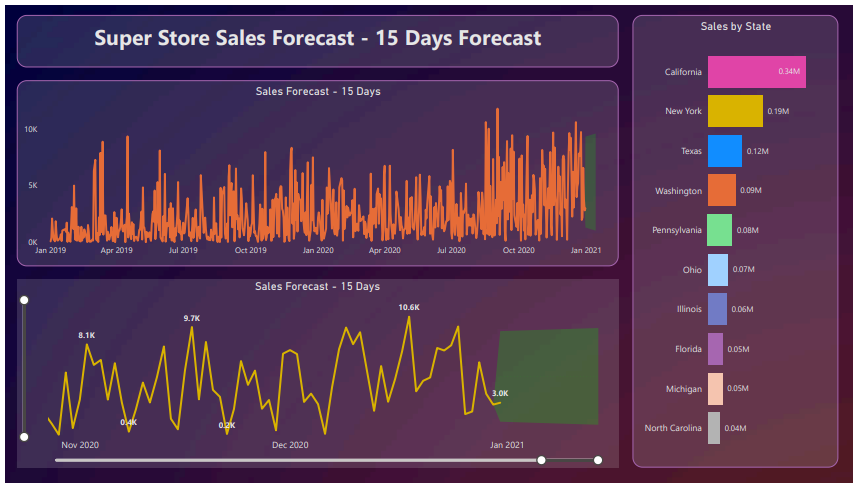

What the dashboard file says about the page in this screenshot:
{"tool":"powerbi","page":{"name":"Page 2","canvas":[1280,720],"ordinal":1},"visuals":[{"type":"lineChart","title":"Sales Forecast - 15 Days","fields":{"Y":["Sum(SuperStore Sales DataSet.Sales)"],"Category":["SuperStore Sales DataSet.Order Date"]},"box":[16.7,112.6,910.4,280.8],"z":0},{"type":"lineChart","title":"Sales Forecast - 15 Days","fields":{"Y":["Sum(SuperStore Sales DataSet.Sales)"],"Category":["SuperStore Sales DataSet.Order Date"]},"box":[16.7,412.8,910.4,284.9],"z":1000},{"type":"clusteredBarChart","title":"Sales by State","fields":{"Category":["SuperStore Sales DataSet.State"],"Y":["Sum(SuperStore Sales DataSet.Sales)"]},"box":[948,13.9,311.4,683.9],"z":2000},{"type":"textbox","box":[16.7,13.9,910.4,79.2],"z":2001}]}

Visuals, with their boxes in screenshot pixels (x1, y1, x2, y2), scaled from the page's 1280x720 canvas onto the 859x486 screenshot:
"Sales Forecast - 15 Days" lineChart: [11, 76, 622, 266]
"Sales Forecast - 15 Days" lineChart: [11, 279, 622, 471]
"Sales by State" clusteredBarChart: [636, 9, 845, 471]
textbox: [11, 9, 622, 63]
